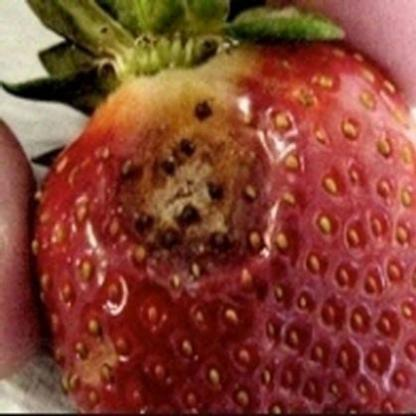Strawberry_Anthracnose_Fruit_Rot: (90, 62, 306, 297)
